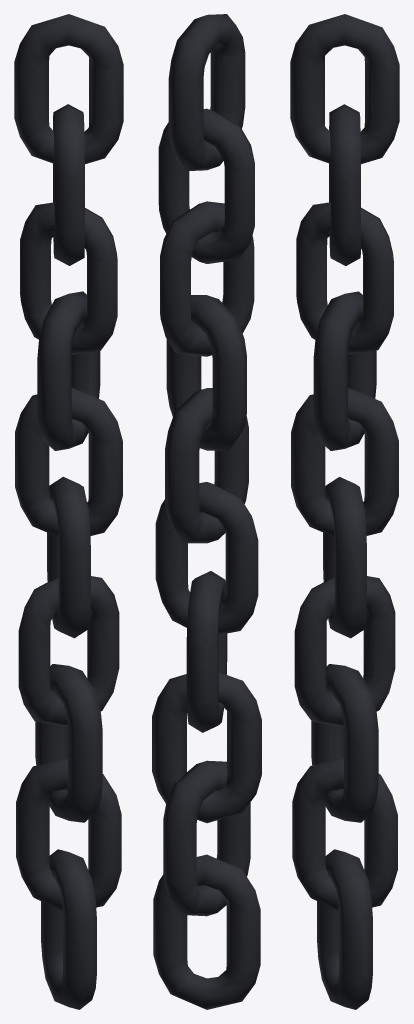
The model's file is SM_PROP_chain_dungeon_01.fbx.
The picture shows the model from 3 angles, left to right: view 1: azimuth 90°, elevation 25°; view 2: azimuth 150°, elevation 25°; view 3: azimuth 270°, elevation 25°; orthographic projection.
Visible parts, largest first — view 1: SM_PROP_chain_dungeon_01; view 2: SM_PROP_chain_dungeon_01; view 3: SM_PROP_chain_dungeon_01.
Boxes of the visible parts, x1,y1,x2,y2 form: SM_PROP_chain_dungeon_01: (14,14,123,1009); SM_PROP_chain_dungeon_01: (152,14,261,1009); SM_PROP_chain_dungeon_01: (290,14,399,1009).
Size of the model in its own units: 26.65 by 266 by 26.6.
